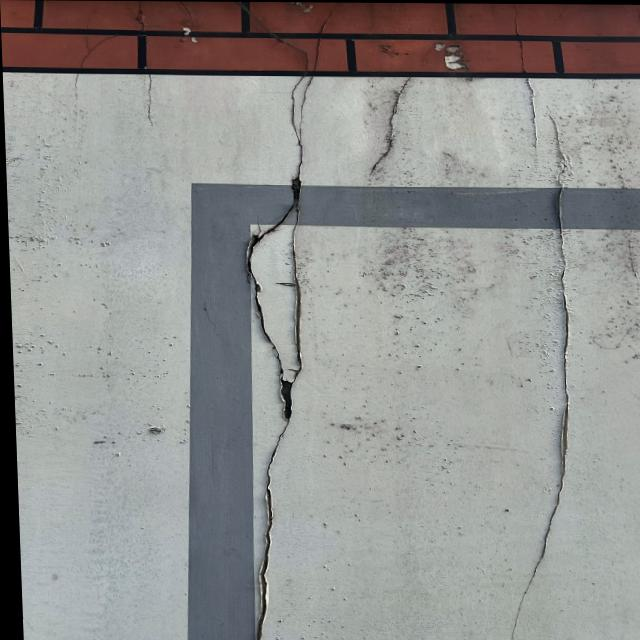crack: (237, 74, 328, 640), (525, 82, 587, 554), (375, 74, 414, 178)
